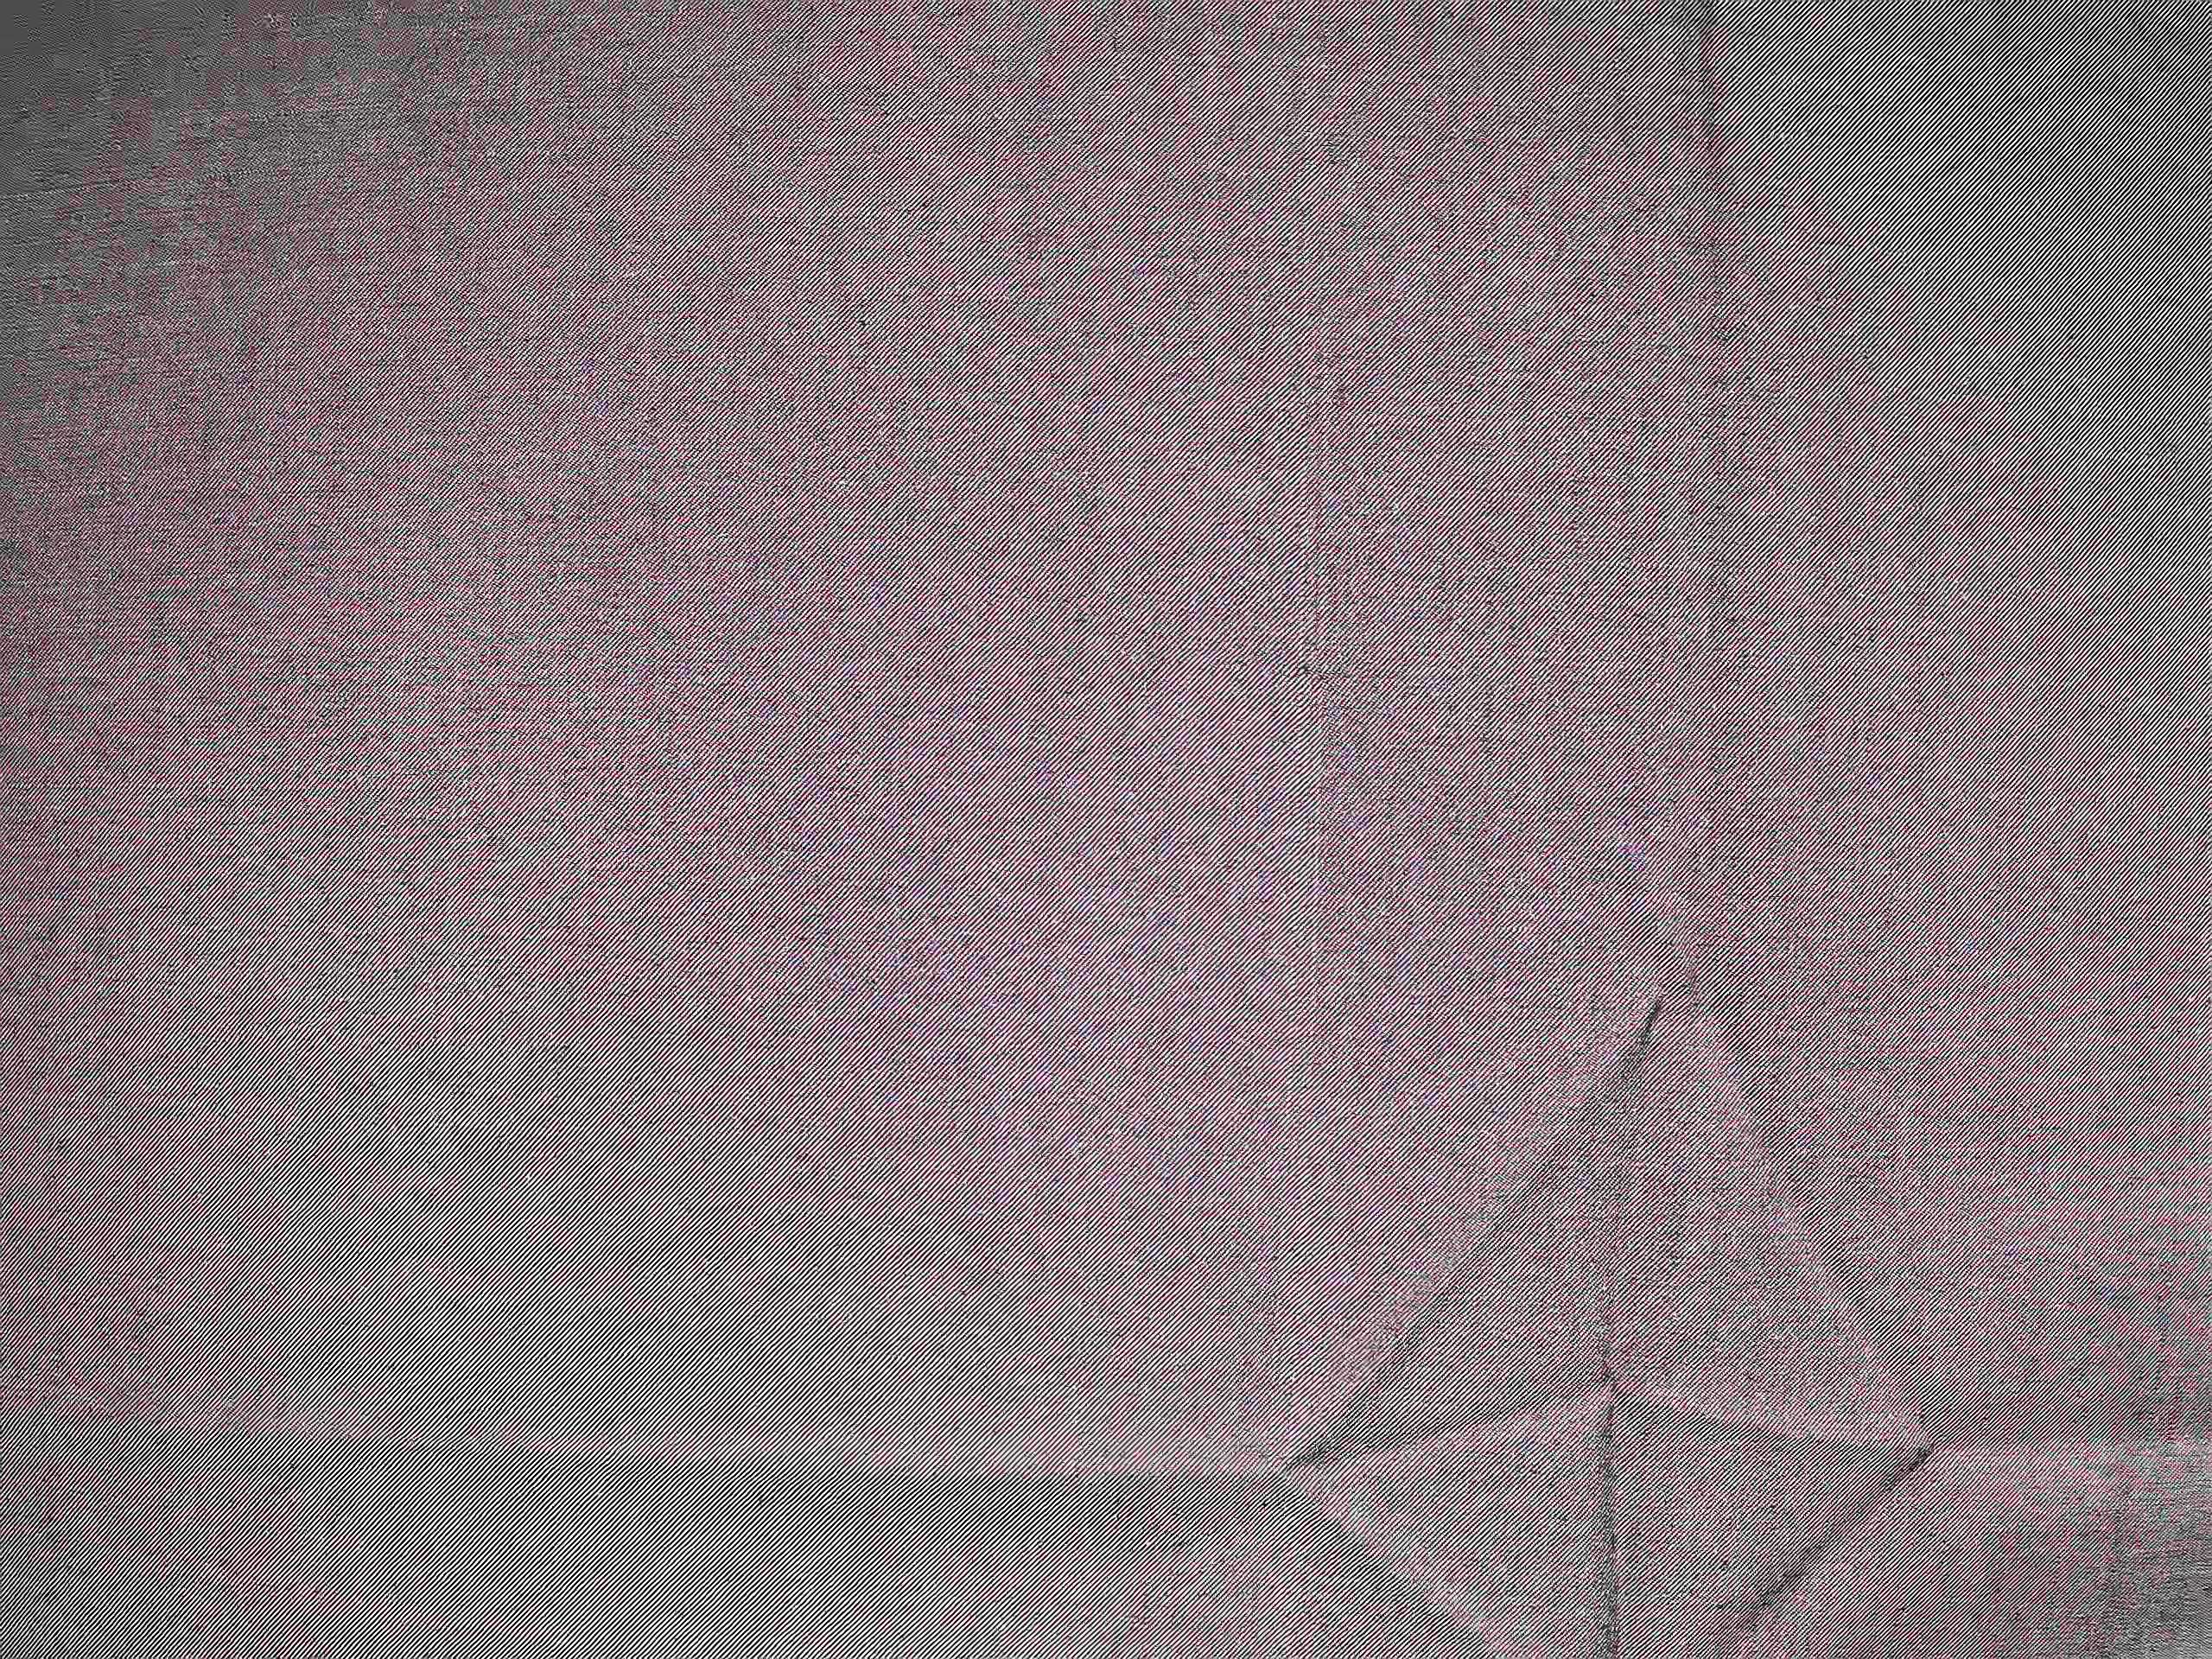hanging-warp: (1270, 186, 1352, 1443)
